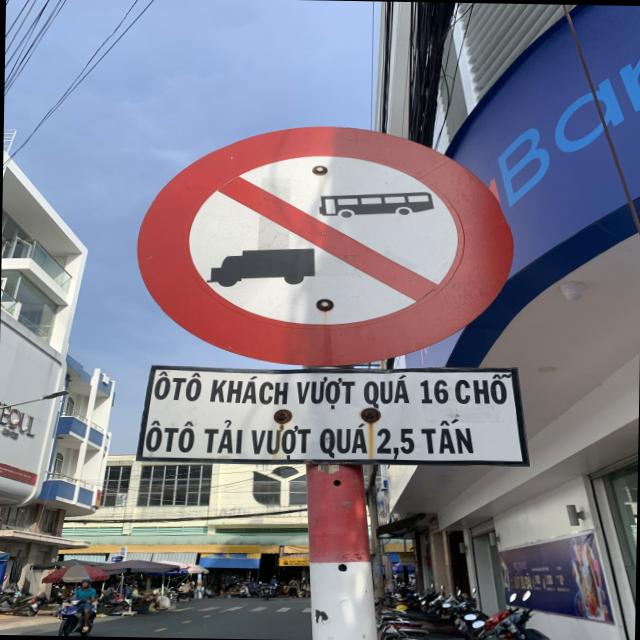Cam_XeTai_XeKhach: (134, 120, 514, 372)
